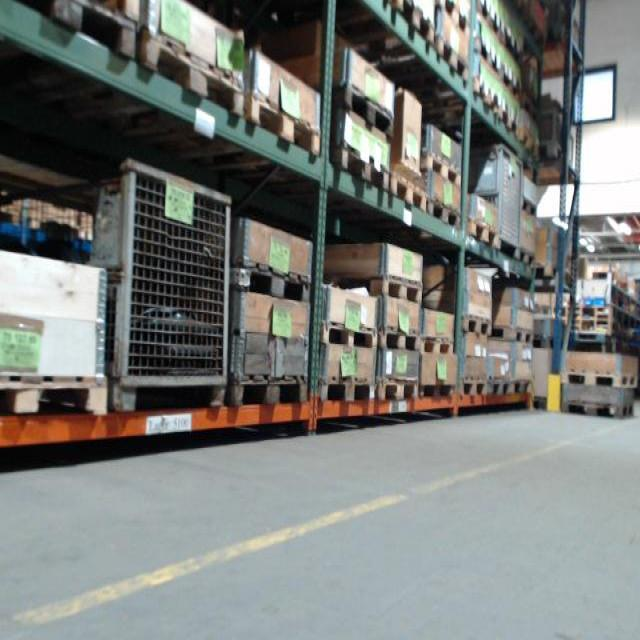pallet: (139, 28, 244, 123), (22, 0, 141, 63), (242, 91, 322, 160), (0, 374, 110, 421), (226, 263, 312, 306), (332, 84, 395, 138), (330, 141, 391, 193), (327, 272, 423, 305), (226, 374, 310, 405), (387, 0, 435, 48), (322, 320, 380, 350), (318, 374, 376, 404), (390, 169, 427, 214), (435, 36, 470, 83), (420, 150, 462, 188), (561, 398, 636, 419), (559, 369, 640, 388), (378, 325, 422, 354), (375, 375, 420, 403), (424, 198, 462, 231), (436, 0, 470, 35), (465, 220, 500, 249), (494, 325, 533, 345), (460, 315, 493, 337), (420, 335, 455, 355), (419, 384, 454, 399), (462, 378, 489, 395), (512, 249, 536, 267), (489, 379, 512, 397), (520, 198, 539, 217), (512, 380, 533, 392)
stillage: (111, 155, 228, 412), (458, 133, 540, 268)
